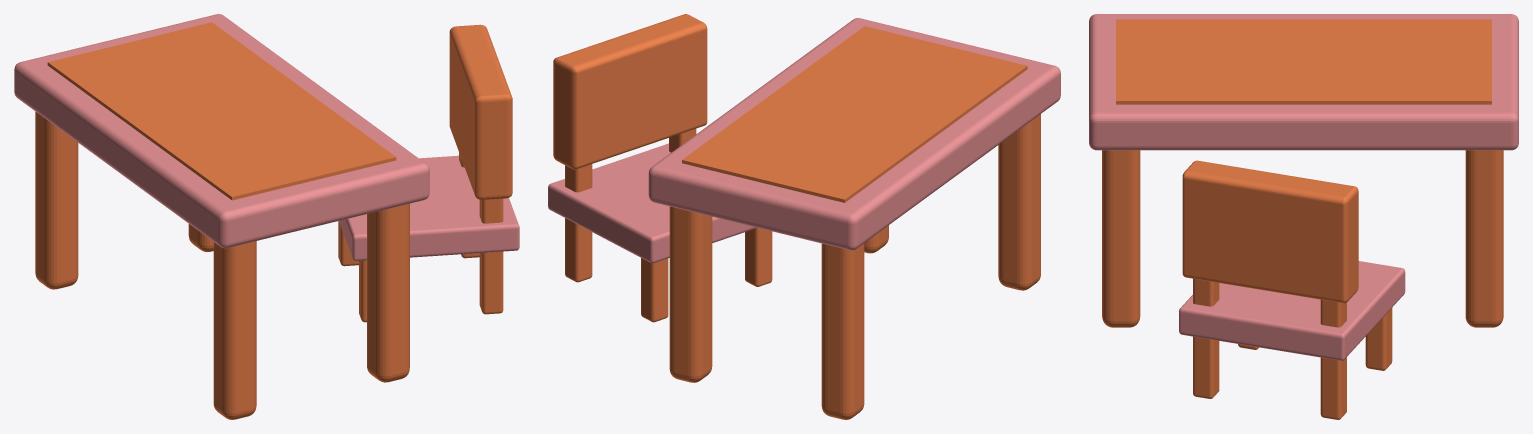
File: desk_and_chair.glb
The picture shows the model from 3 angles, left to right: view 1: azimuth 30°, elevation 25°; view 2: azimuth 150°, elevation 25°; view 3: azimuth 270°, elevation 25°; orthographic projection. The views are drawn at different scales.
Visible parts, largest first — view 1: Cube, Cube.006, Cube.005, Cube.004, Cube.003, Cube.002, Cube.008, Cube.010; view 2: Cube, Cube.006, Cube.005, Cube.002, Cube.001, Cube.004, Cube.007, Cube.009, Cube.010; view 3: Cube, Cube.006, Cube.005, Cube.001, Cube.003, Cube.007, Cube.008, Cube.009.
Boxes of the visible parts, x1,y1,x2,y2 form: Cube: [14, 14, 429, 248]; Cube.006: [449, 24, 512, 199]; Cube.005: [339, 155, 519, 261]; Cube.004: [213, 241, 256, 419]; Cube.003: [367, 203, 409, 382]; Cube.002: [35, 111, 78, 289]; Cube.008: [479, 198, 503, 314]; Cube.010: [359, 260, 366, 322]; Cube: [648, 18, 1060, 250]; Cube.006: [553, 14, 707, 169]; Cube.005: [548, 143, 757, 263]; Cube.002: [821, 243, 864, 419]; Cube.001: [669, 206, 712, 382]; Cube.004: [998, 114, 1040, 290]; Cube.007: [565, 164, 592, 282]; Cube.009: [641, 258, 668, 322]; Cube.010: [745, 228, 772, 286]; Cube: [1089, 14, 1518, 150]; Cube.006: [1182, 160, 1358, 303]; Cube.005: [1179, 261, 1405, 360]; Cube.001: [1465, 150, 1503, 327]; Cube.003: [1102, 150, 1140, 327]; Cube.007: [1320, 299, 1346, 419]; Cube.008: [1193, 278, 1219, 398]; Cube.009: [1365, 308, 1392, 370].
Size of what is drawn, in the model's own units: 3.76 by 2.02 by 3.48.
